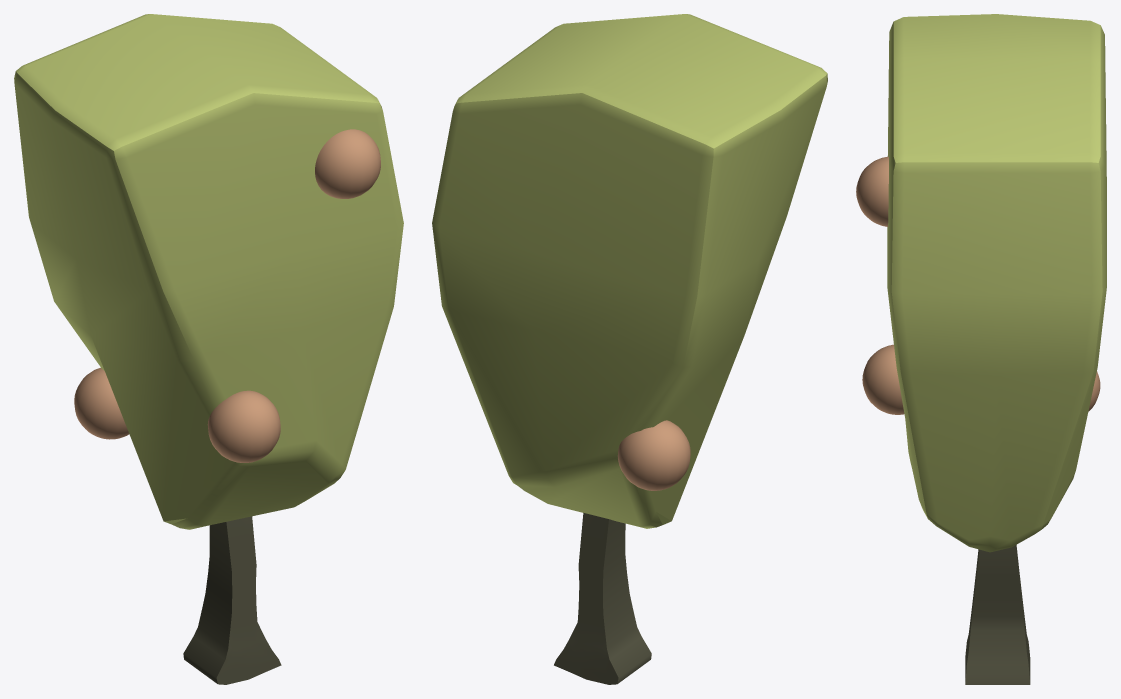
Rendered from Tree1Apple.fbx.
3 renders of one model, left to right at view 1: azimuth 30°, elevation 25°; view 2: azimuth 150°, elevation 25°; view 3: azimuth 270°, elevation 25°, orthographic. The views are drawn at different scales.
Visible parts, largest first — view 1: pasted__pCube4, pasted__pCube1, pSphere7, ForEdit3:pSphere7, pSphere8; view 2: pasted__pCube4, pasted__pCube1, pSphere8; view 3: pasted__pCube4, pasted__pCube1, pSphere7, ForEdit3:pSphere7.
Boxes of the visible parts, x1=… form: pasted__pCube4: x1=14, y1=14, x2=403, y2=529; pasted__pCube1: x1=183, y1=516, x2=281, y2=684; pSphere7: x1=207, y1=390, x2=280, y2=462; ForEdit3:pSphere7: x1=315, y1=129, x2=380, y2=198; pSphere8: x1=74, y1=367, x2=129, y2=439; pasted__pCube4: x1=432, y1=14, x2=827, y2=528; pasted__pCube1: x1=554, y1=513, x2=651, y2=684; pSphere8: x1=617, y1=420, x2=690, y2=490; pasted__pCube4: x1=887, y1=14, x2=1106, y2=552; pasted__pCube1: x1=965, y1=545, x2=1030, y2=684; pSphere7: x1=862, y1=344, x2=904, y2=414; ForEdit3:pSphere7: x1=856, y1=156, x2=888, y2=226.
Size of the model in its own units: 2.19 by 4.36 by 1.65.
